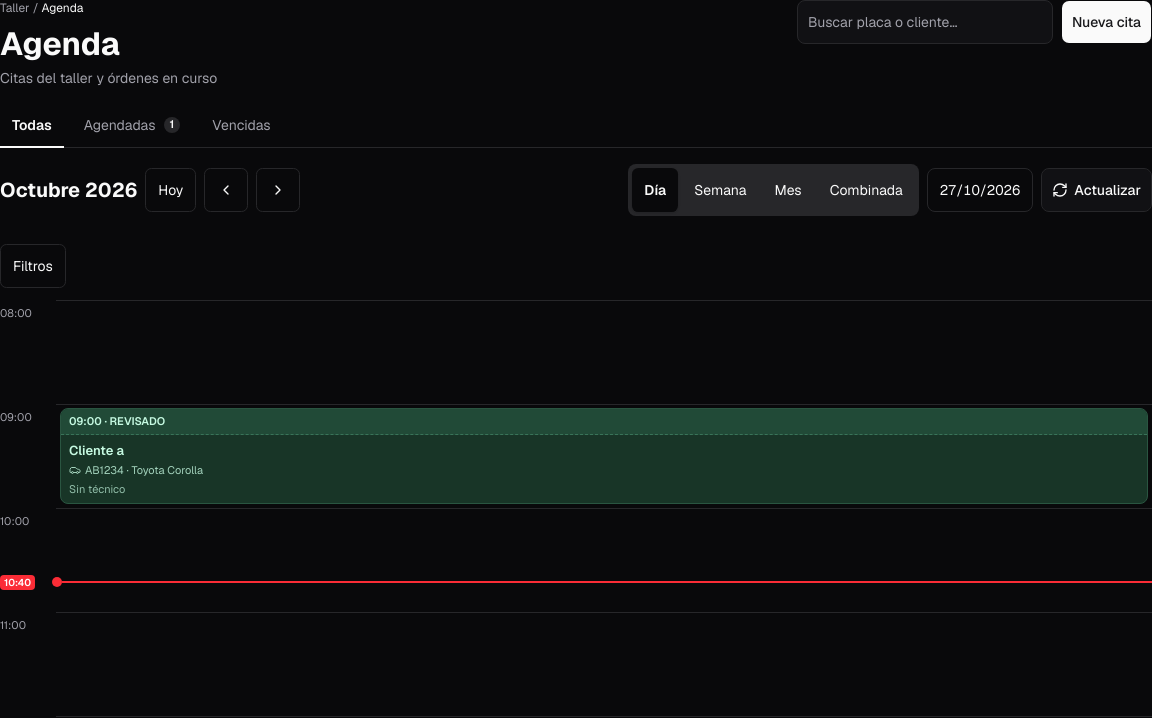
Test case: AgendaShell › below md the Detail is a bottom sheet with our own 44px 'Cerrar' and not the stock English close
This screenshot has width=1152, height=718.
Click the button "Cliente a" at (604, 422), box [60,408,1148,504]
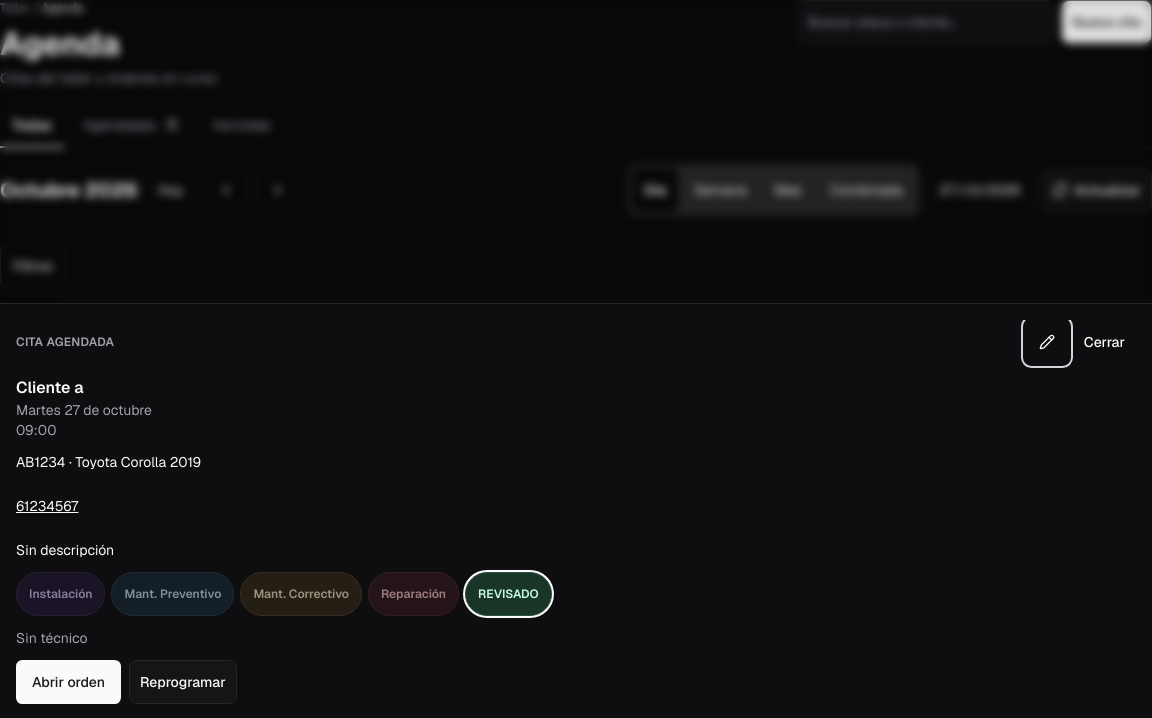
Check: the text "Cliente a" is shown, box [16,377,84,398]
Check: the number of buttons "Cerrar" is 1, box [1073,320,1136,364]
